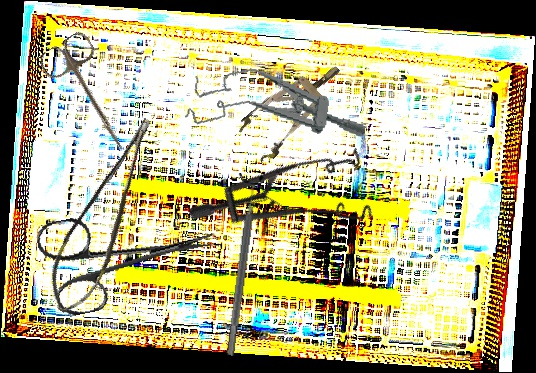Fixation Ring: (216, 172, 266, 358)
Iris Scissors: (33, 189, 226, 321), (35, 28, 148, 163)
Micro Scissor: (31, 114, 185, 321)
Speculum: (184, 105, 397, 306), (184, 59, 372, 151), (232, 50, 355, 166)
